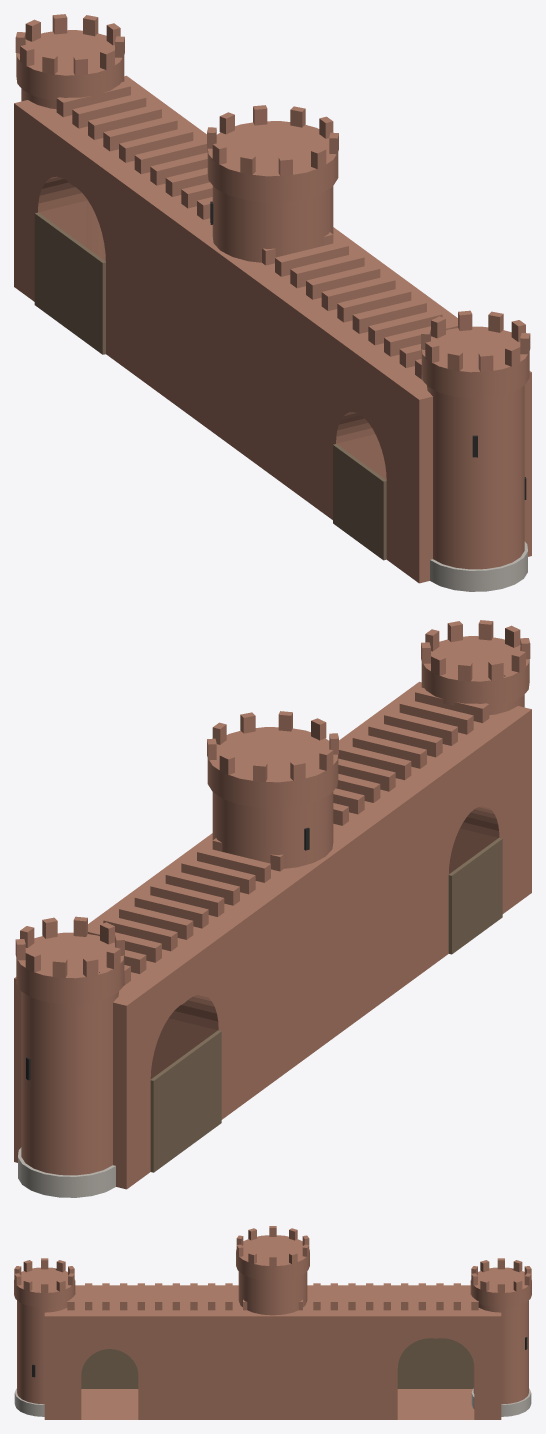
File: portal_lisewo_1912.glb
The picture shows the model from 3 angles, top to bottom: view 1: azimuth 30°, elevation 25°; view 2: azimuth 150°, elevation 25°; view 3: azimuth 270°, elevation 25°; orthographic projection. The views are drawn at different scales.
Visible parts, largest first — view 1: portal_lisewo_1912, gate_rail_right, gate_rail_left, gate_road_right, gate_road_left; view 2: portal_lisewo_1912, gate_rail_left, gate_rail_right, gate_road_left, gate_road_right; view 3: portal_lisewo_1912, gate_rail_right, gate_rail_left, gate_road_right, gate_road_left.
Part boxes in pixels (left/top/right/bottom): portal_lisewo_1912: left=14, top=14, right=531, bottom=591; gate_rail_right: left=68, top=237, right=105, bottom=354; gate_rail_left: left=34, top=212, right=71, bottom=329; gate_road_right: left=358, top=462, right=386, bottom=560; gate_road_left: left=333, top=444, right=361, bottom=541; portal_lisewo_1912: left=14, top=620, right=531, bottom=1197; gate_rail_left: left=150, top=1055, right=187, bottom=1172; gate_rail_right: left=184, top=1030, right=221, bottom=1147; gate_road_left: left=448, top=856, right=477, bottom=954; gate_road_right: left=474, top=838, right=502, bottom=935; portal_lisewo_1912: left=14, top=1226, right=531, bottom=1419; gate_rail_right: left=397, top=1338, right=435, bottom=1388; gate_rail_left: left=436, top=1338, right=473, bottom=1388; gate_road_right: left=81, top=1349, right=109, bottom=1388; gate_road_left: left=110, top=1349, right=138, bottom=1388.
Size of the model in its own units: 9.3 by 22 by 63.5.
